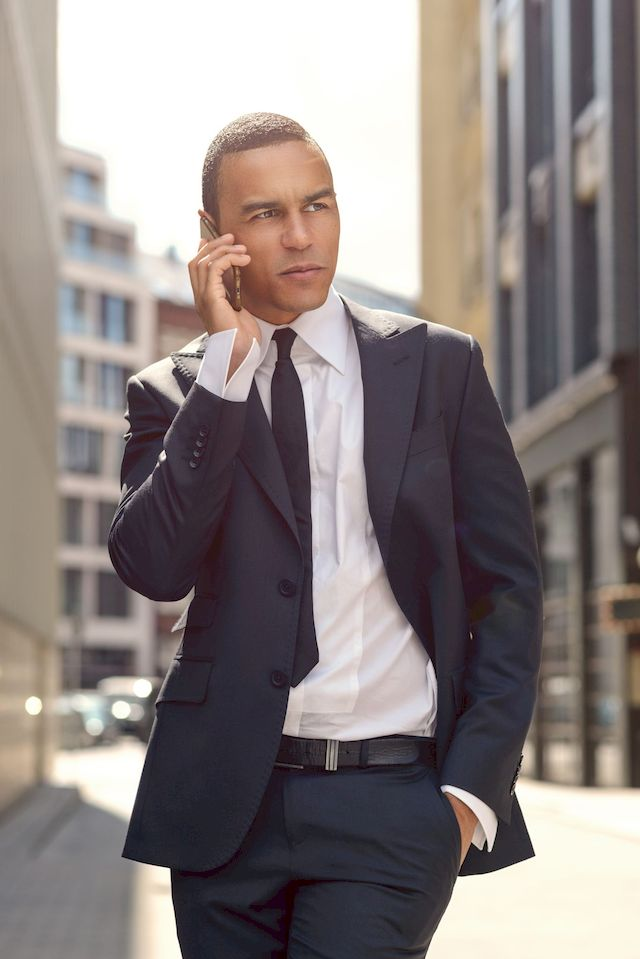phone: (193, 227, 257, 299)
talk: (190, 183, 340, 336)
